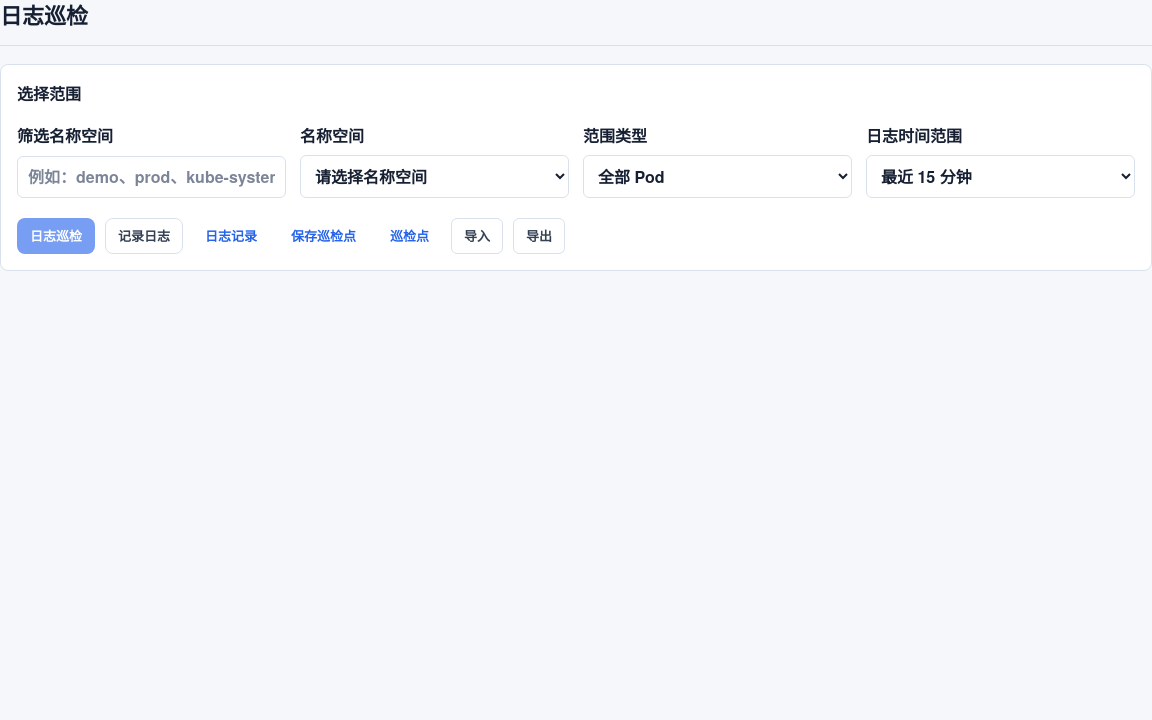
Test case: PodInspectionPage › blocks a discovered range over the configured pod limit without sending an inspection request
The image size is (1152, 720).
Select "demo" in the dropdown labelled "名称空间" at (434, 176), box [300,155,569,198]
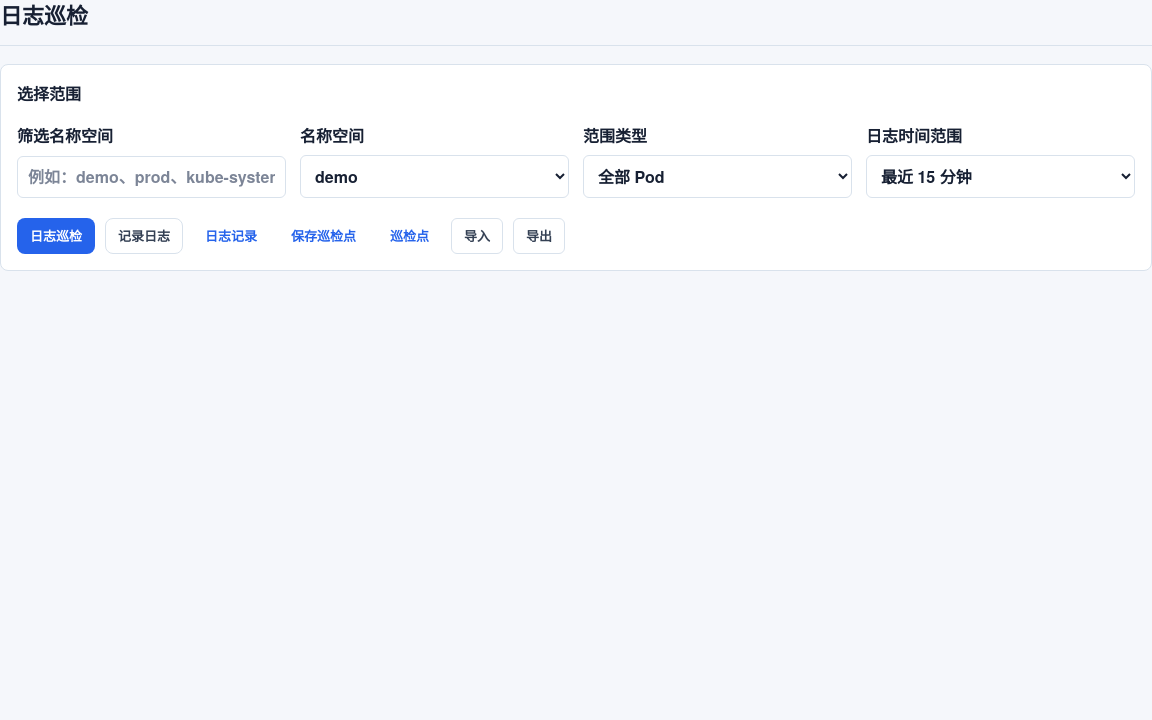
Click the button "日志巡检" at (56, 236), box [17,218,95,254]
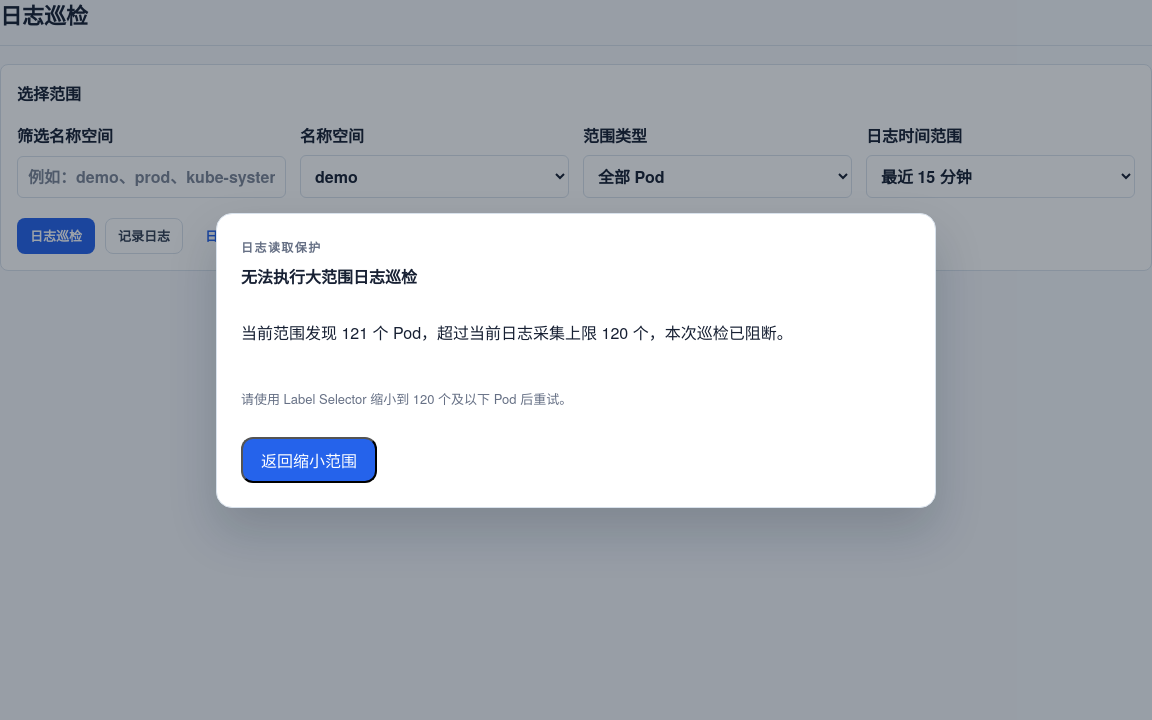
expect the text "当前范围发现 121 个 Pod，超过当前日志采集上限 120 个，本次巡检已阻断。" is shown: met, box [241,320,793,344]
expect the text "请使用 Label Selector 缩小到 120 个及以下 Pod 后重试。" is shown: met, box [241,388,572,408]
Click the button "返回缩小范围" at (309, 460), box [241,436,377,482]
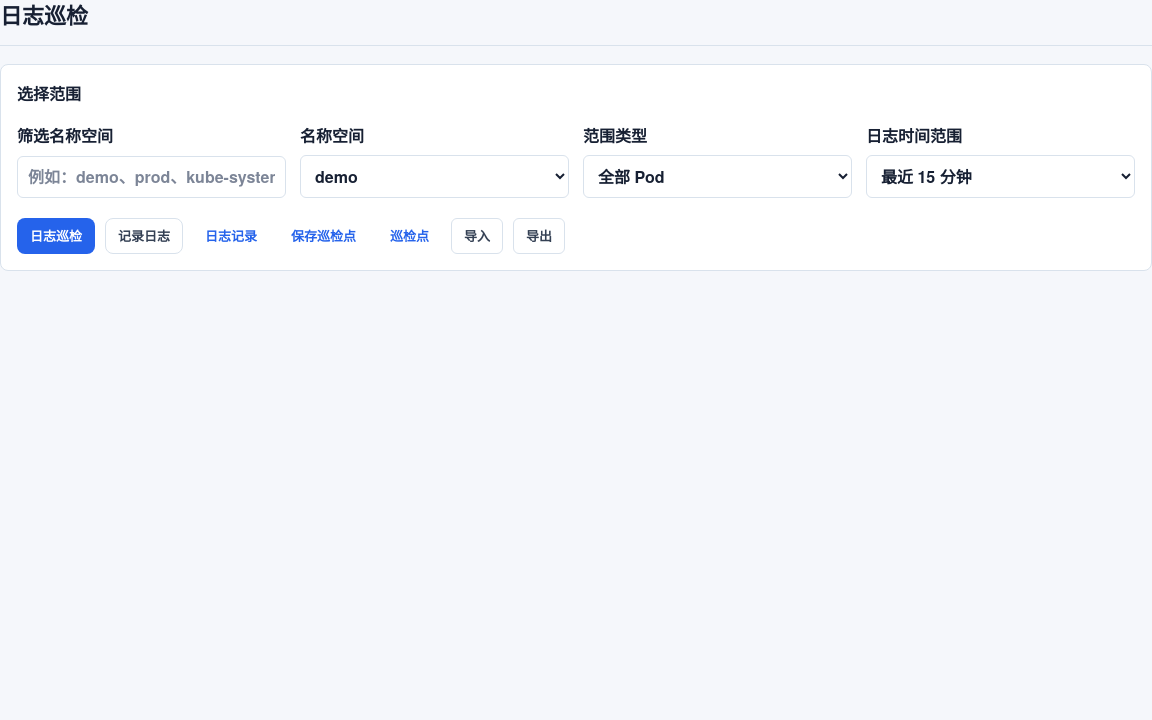
expect the heading "无法执行大范围日志巡检" is gone: met
